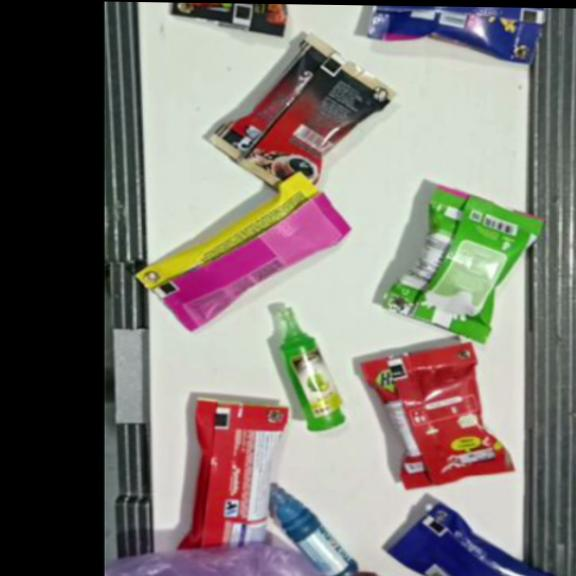Plastik: (134, 169, 351, 334), (207, 32, 395, 196), (385, 188, 544, 346), (359, 341, 515, 491), (178, 396, 288, 552), (387, 502, 570, 576), (364, 5, 544, 63), (278, 306, 344, 433), (269, 485, 358, 576), (106, 548, 326, 576), (170, 3, 290, 37)
